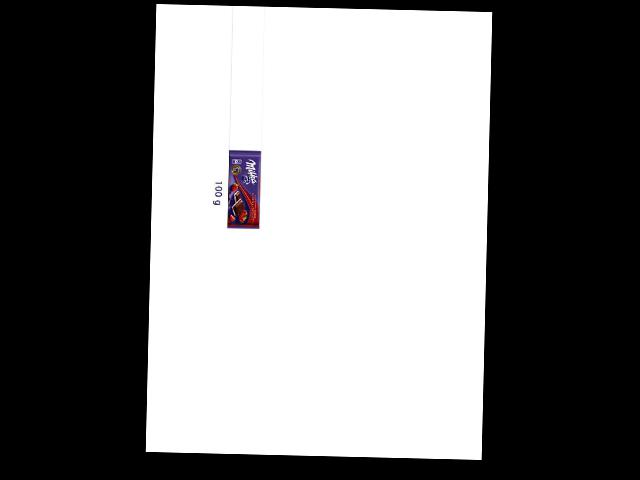chocolate: (223, 150, 261, 229)
